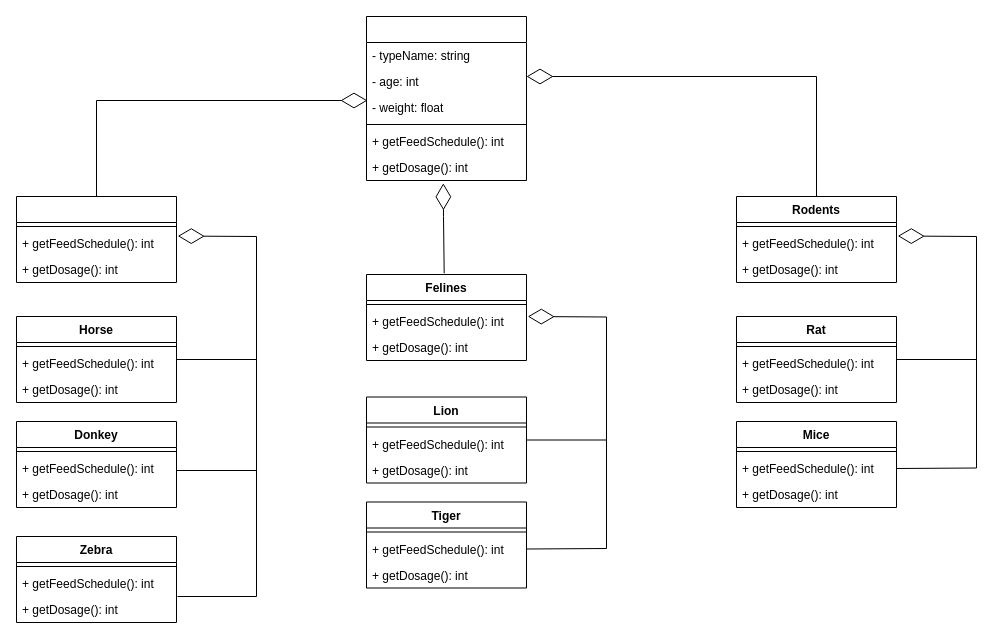
Image size: 993x639. Some labels were removed from this diagram. The box of each missing label's shape, as (x1, y1, x2, y2) in pixels:
Animals: (366, 16, 526, 180)
Horses: (16, 196, 176, 282)
